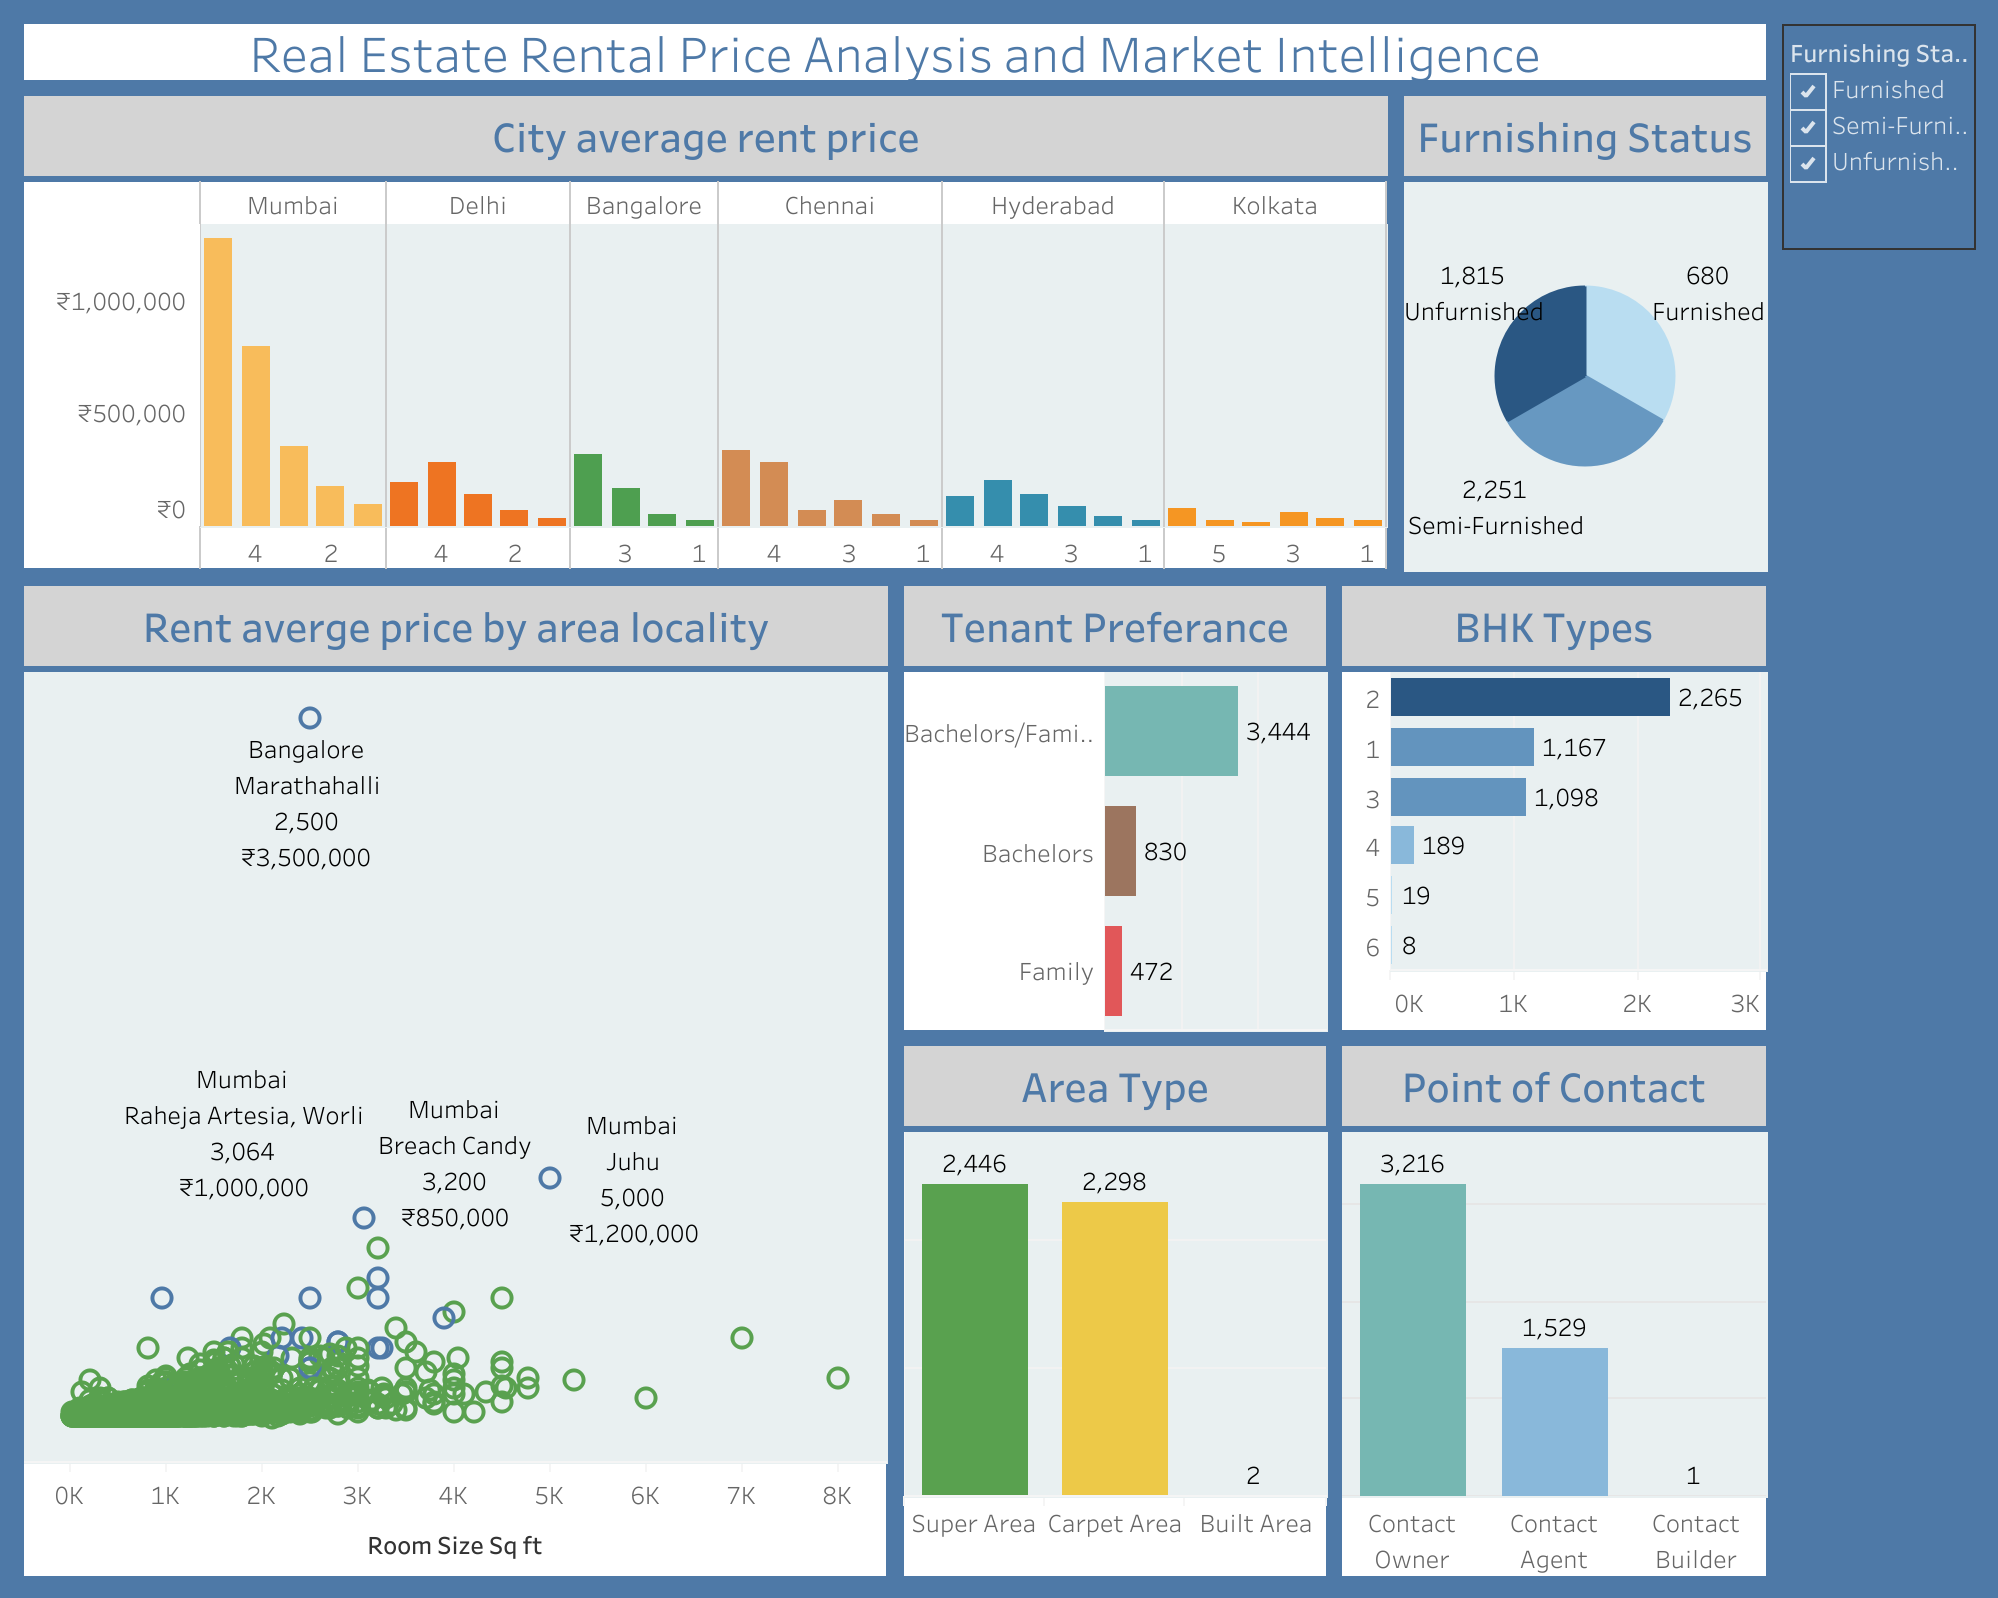

The page's visual inventory and layout, read from the dashboard file:
{"tool":"tableau","page":{"name":"Real Estate Rental Price Analysis and Market Intelligence","canvas":[1000,800],"ordinal":0},"visuals":[{"type":"title","box":[8,8,879,36]},{"type":"filter","title":"City avg. rent price","param":"[federated.0srj3v31oan7vr12nr4lu0vj7zkj].[none:Furnishing Status:nk]","box":[887,8,105,121]},{"type":"worksheet","title":"City avg. rent price","mark":"Automatic","rows":["Rent"],"cols":["City","BHK"],"box":[8,44,690,245]},{"type":"worksheet","title":"Furnishing Status","mark":"Pie","box":[698,44,189,245]},{"type":"worksheet","title":"Rent avg. rent price","mark":"Automatic","rows":["Rent"],"cols":["Size"],"box":[8,289,439.5,503]},{"type":"worksheet","title":"Tenant Preferance","mark":"Automatic","rows":["Tenant Preferred"],"cols":["Rent"],"box":[447.5,289,219.8,230]},{"type":"worksheet","title":"BHK Types","mark":"Automatic","rows":["BHK"],"cols":["Rent"],"box":[667.2,289,219.8,230]},{"type":"worksheet","title":"Area type","mark":"Automatic","rows":["Rent"],"cols":["Area Type"],"box":[447.5,519,219.8,273]},{"type":"worksheet","title":"Point of Contact","mark":"Automatic","rows":["Rent"],"cols":["Point of Contact"],"box":[667.2,519,219.8,273]}]}

Visuals, with their boxes in screenshot pixels (x1, y1, x2, y2), scaled from the page's 1000x800 canvas onto the 1998x1598 screenshot:
title: BBox(16, 16, 1772, 88)
"City avg. rent price" filter: BBox(1772, 16, 1982, 258)
"City avg. rent price" worksheet: BBox(16, 88, 1395, 577)
"Furnishing Status" worksheet (Pie marks): BBox(1395, 88, 1772, 577)
"Rent avg. rent price" worksheet: BBox(16, 577, 894, 1582)
"Tenant Preferance" worksheet: BBox(894, 577, 1333, 1037)
"BHK Types" worksheet: BBox(1333, 577, 1772, 1037)
"Area type" worksheet: BBox(894, 1037, 1333, 1582)
"Point of Contact" worksheet: BBox(1333, 1037, 1772, 1582)
